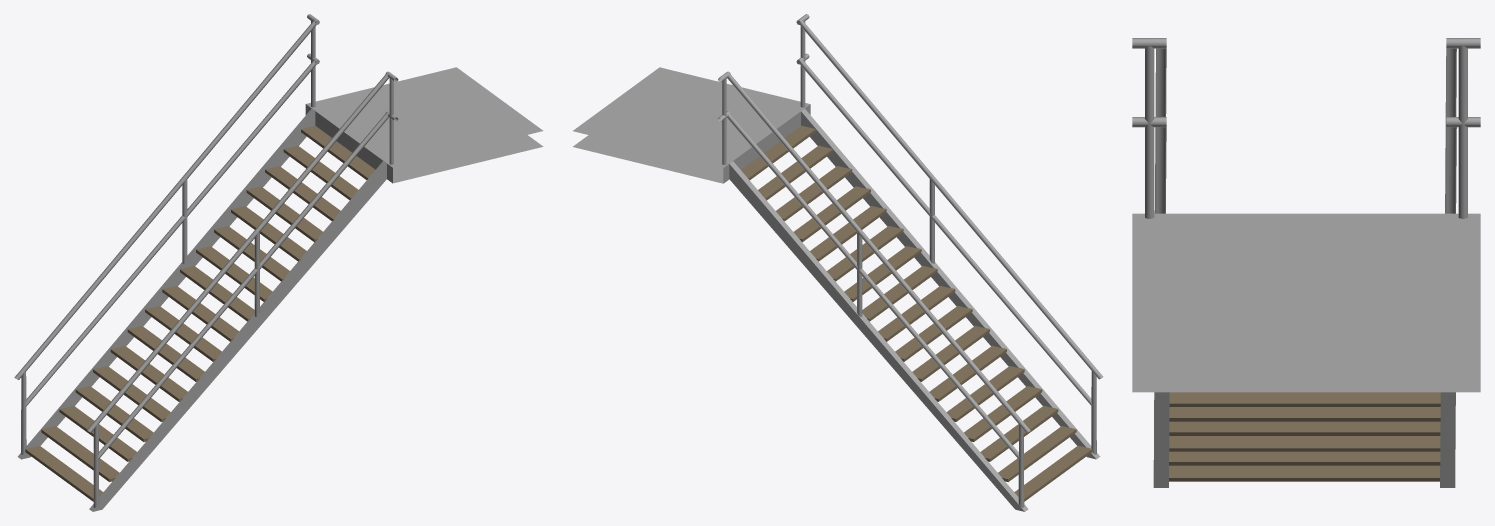
File: SM_Railing_Stairs_200.FBX
3 renders of one model, left to right at view 1: azimuth 30°, elevation 25°; view 2: azimuth 150°, elevation 25°; view 3: azimuth 270°, elevation 25°, orthographic. The views are drawn at different scales.
Visible parts, largest first — view 1: SM_Railing_Stairs_200; view 2: SM_Railing_Stairs_200; view 3: SM_Railing_Stairs_200.
Part boxes in pixels (x1,y1,x2,y2): SM_Railing_Stairs_200: [14, 14, 543, 511]; SM_Railing_Stairs_200: [573, 14, 1103, 511]; SM_Railing_Stairs_200: [1132, 38, 1480, 487].
Bounding box in the file's own units: 596 × 200 × 463.
